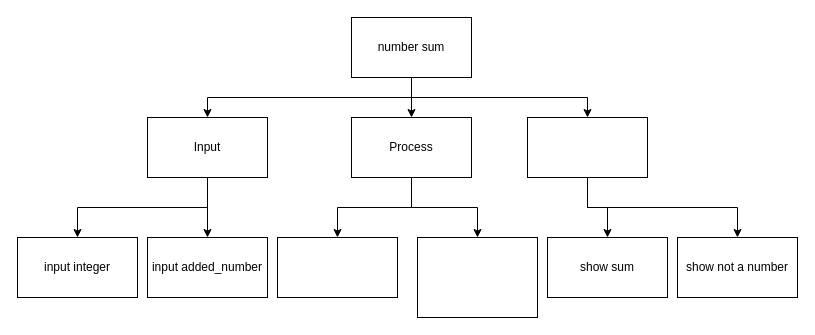
The diagram is 815 pixels wide and 335 high, and some of its shapes have lost their labels. The centre of each missing label's shape, as x and y in pixels:
"counter++ sum = sum+added_number until counter = integer" belongs at [477,277].
"if added_number <0" belongs at [337,267].
"Output" belongs at [587,147].
